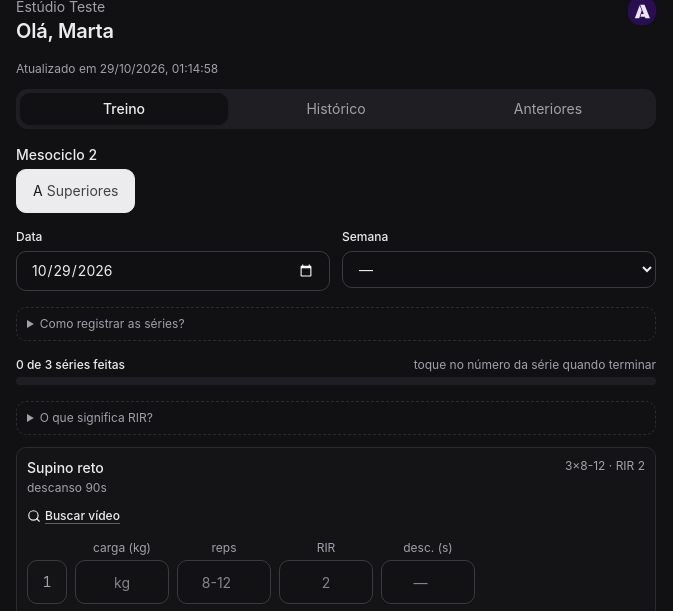
it: TreinoAluno › congela todos os campos e a navegação durante uma conclusão pendente
Expected: the heading "Olá, Marta" is shown, [16,17,114,45]
Type "40" into the field named "Carga da série 1 de Supino reto" at (122, 582), box [75,560,169,604]
(page scrolled)
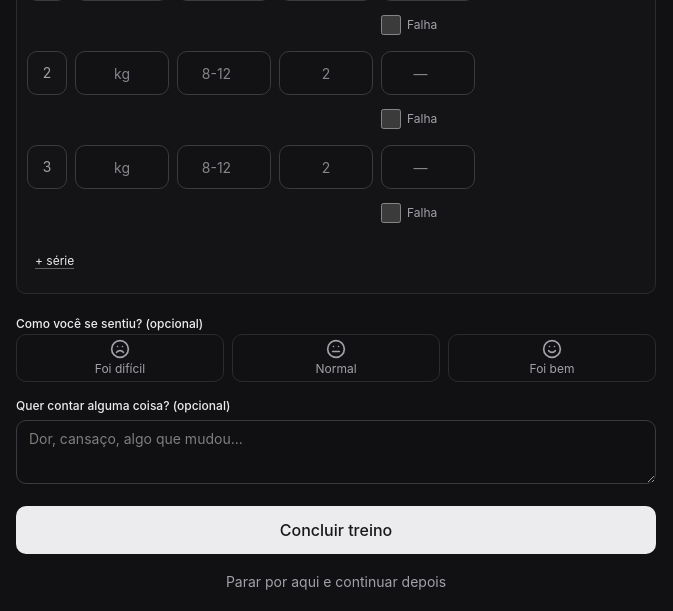
Type "Nota enviada" into the text box labelled "Quer contar alguma coisa? (opcional)" at (336, 452), box [16,420,656,484]
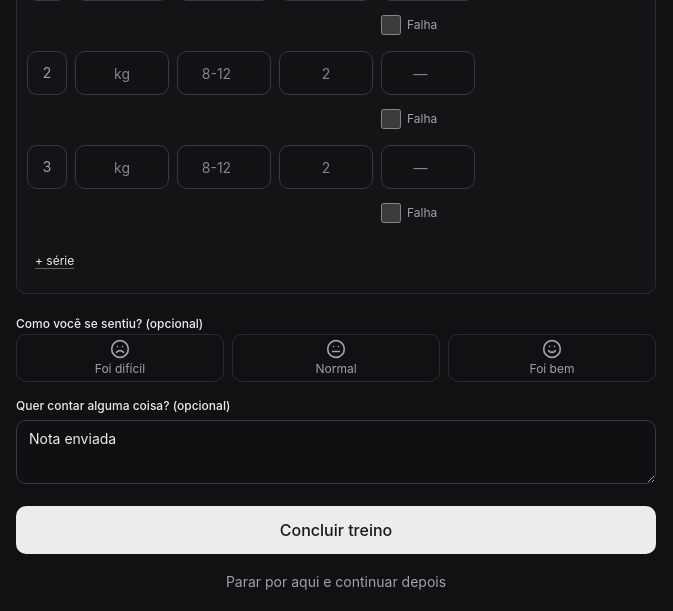
Click the button "Concluir treino" at (336, 530), box [16,506,656,554]
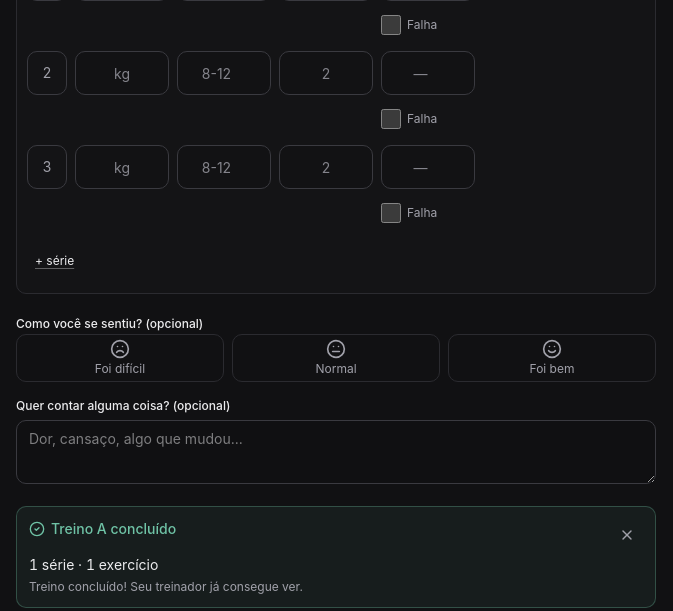
Expected: the text "Treino concluído! Seu treinador já consegue ver." is shown, [29,579,303,594]
